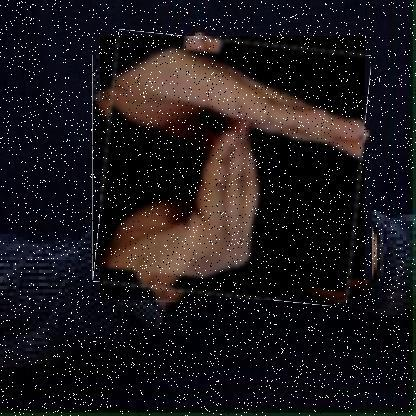Z: (100, 36, 366, 301)
